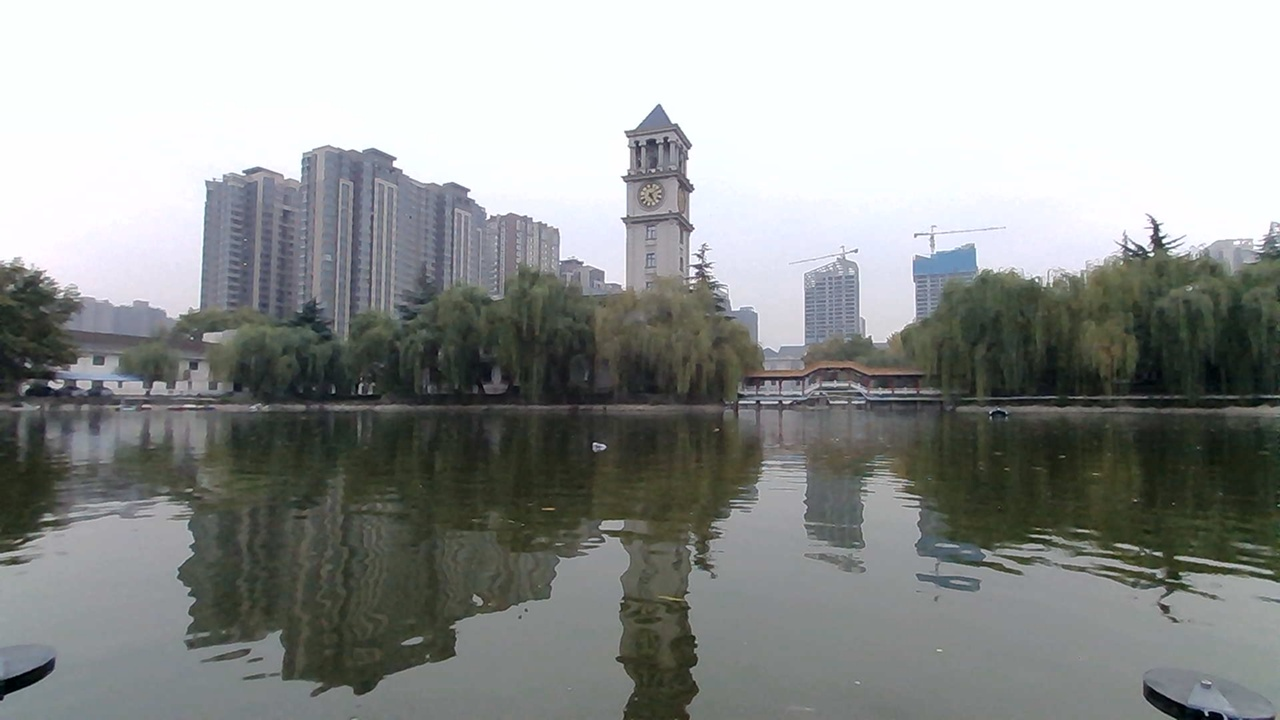bottle: (581, 427, 633, 465)
